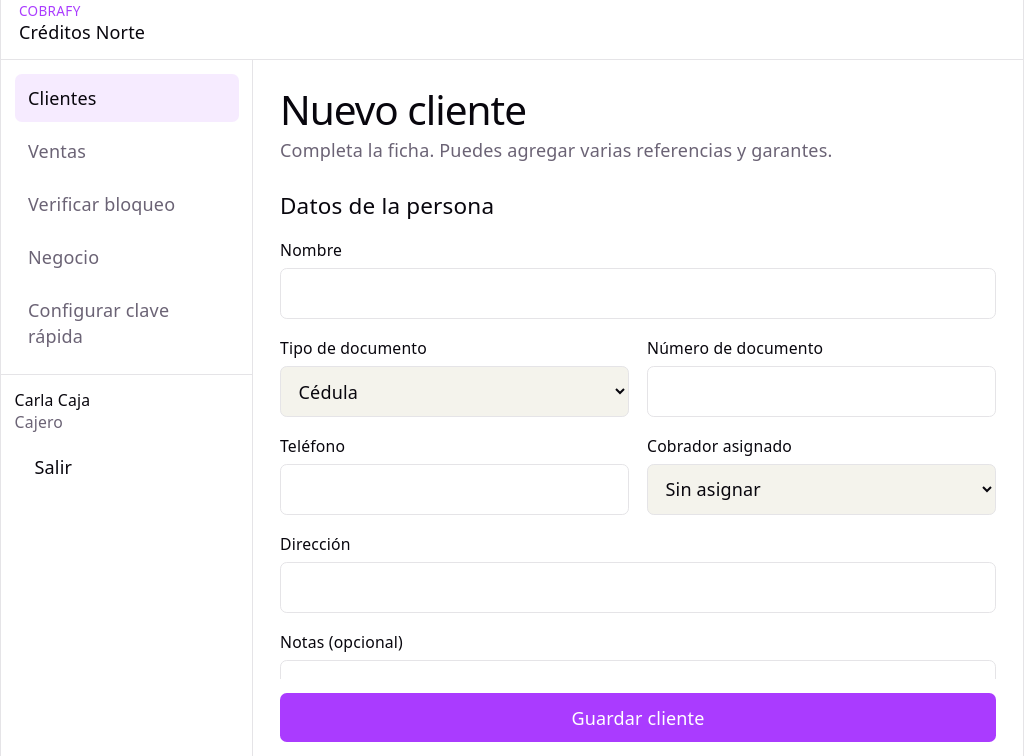
CBF-215 errores de documento en el campo › crear con documento duplicado muestra el error en el input, sin banner, y enfoca el campo
This screenshot has width=1024, height=756.
Expected: the heading "Nuevo cliente" is shown, x1=280 y1=82 x2=526 y2=137
Type "Ana Pérez" into the field labelled "Nombre" at point(638, 294), box x1=280 y1=268 x2=996 y2=319
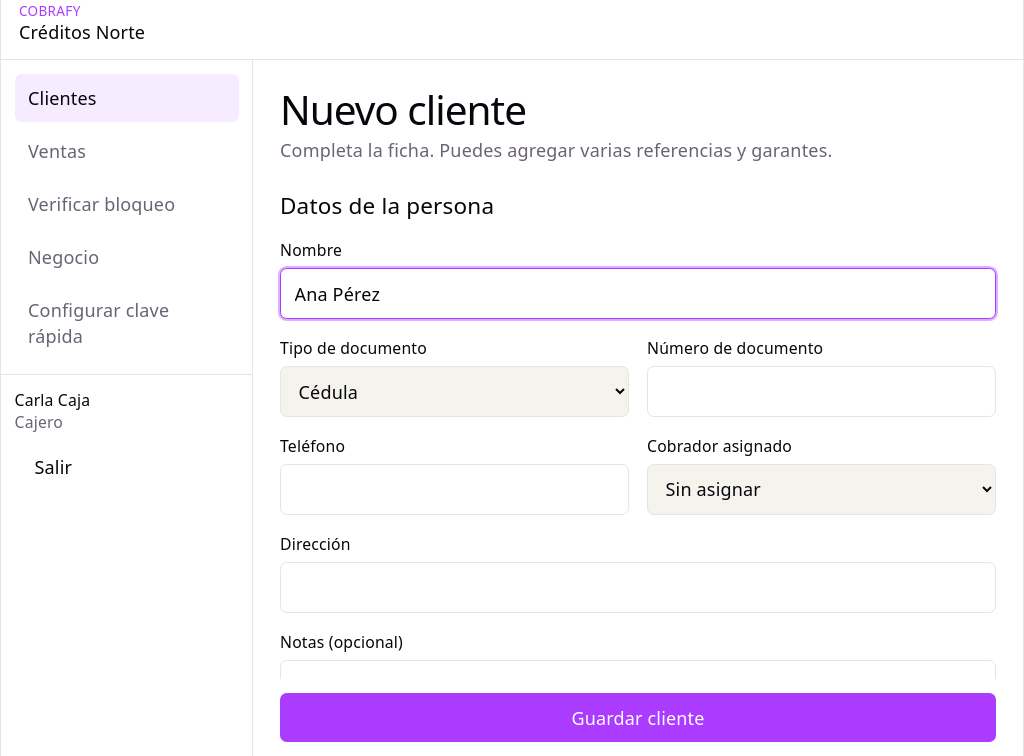
Type "001-9999999-9" into the field labelled "Número de documento" at point(822, 392), box x1=647 y1=366 x2=996 y2=417
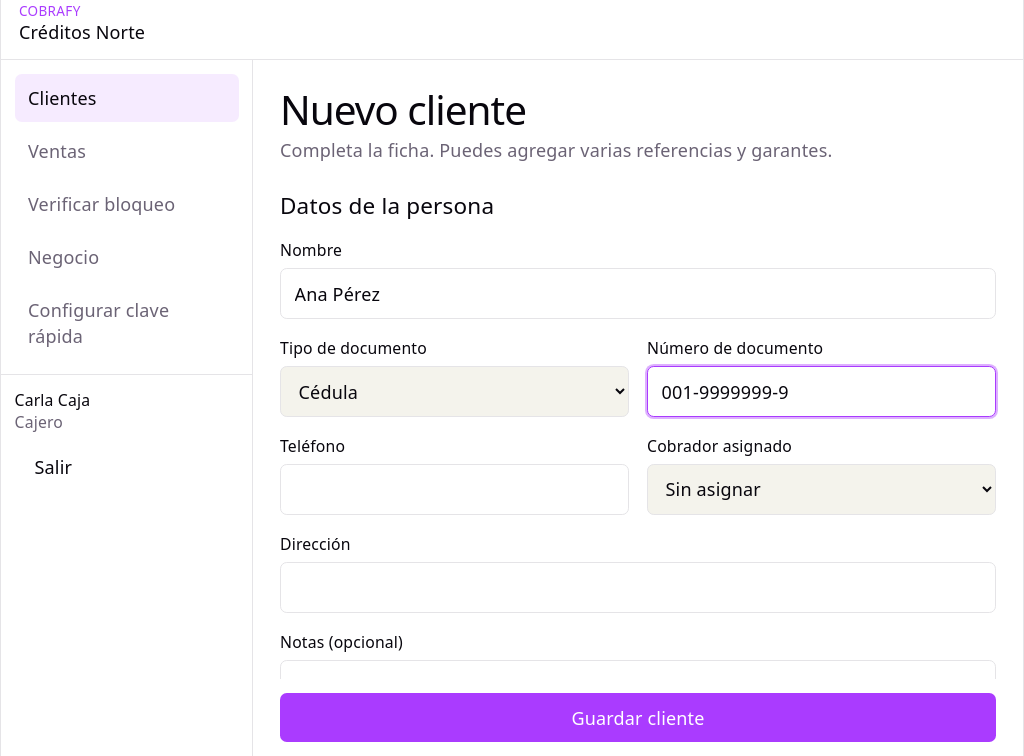
Type "8095551111" into the field labelled "Teléfono" at point(454, 489), box x1=280 y1=464 x2=629 y2=515
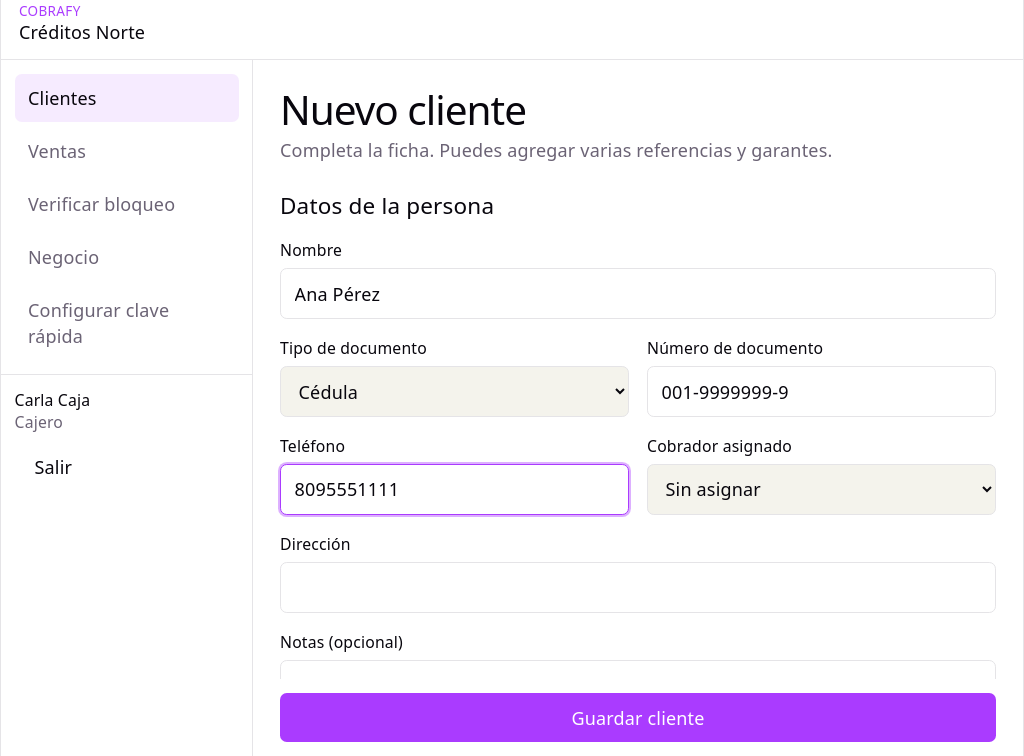
Type "Calle 1" into the field labelled "Dirección" at point(638, 587), box x1=280 y1=562 x2=996 y2=613
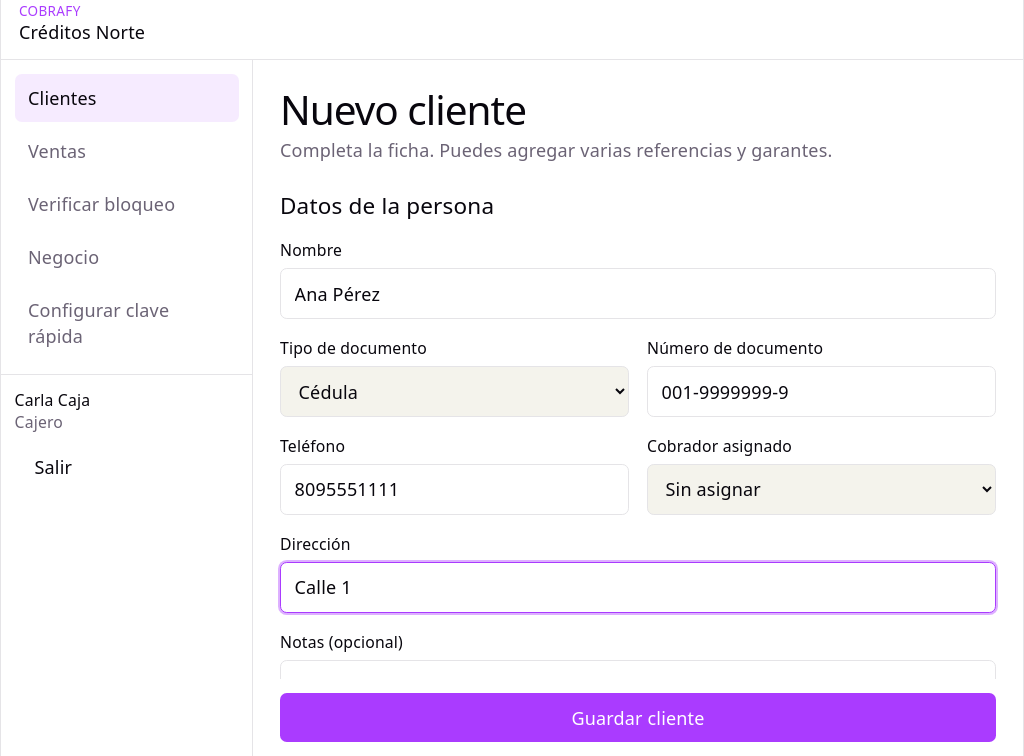
Click the button "Guardar cliente" at point(638, 718), box x1=280 y1=693 x2=996 y2=742
(page scrolled)
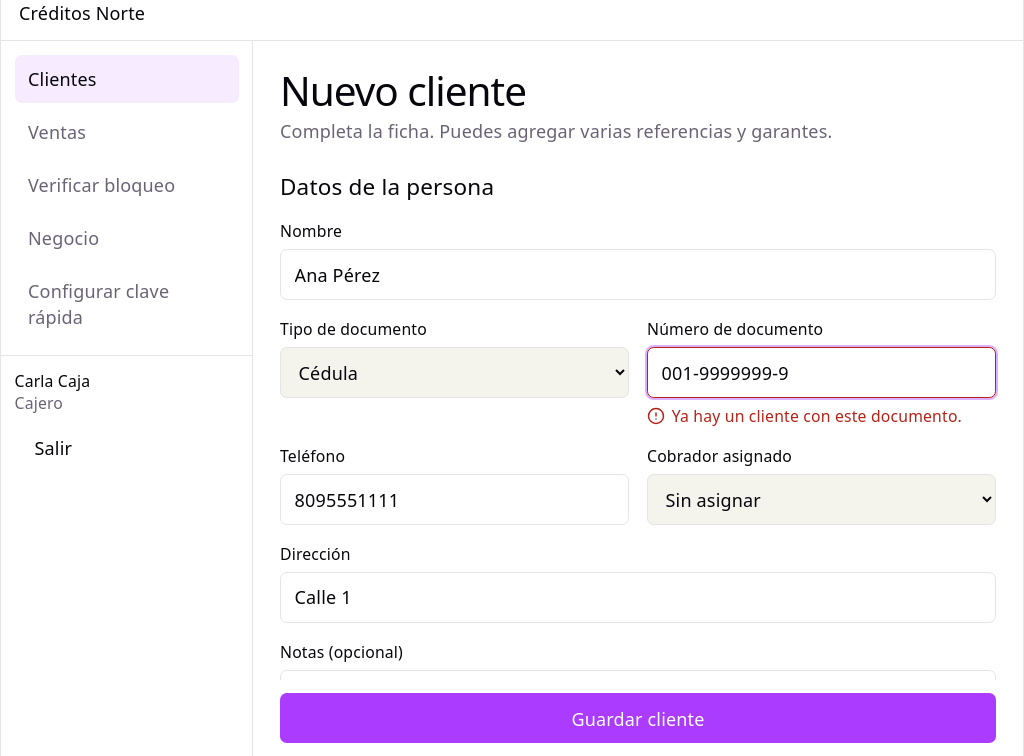
Expected: the message with id "document-error" reads "Ya hay un cliente con este documento.", x1=672 y1=405 x2=962 y2=427
